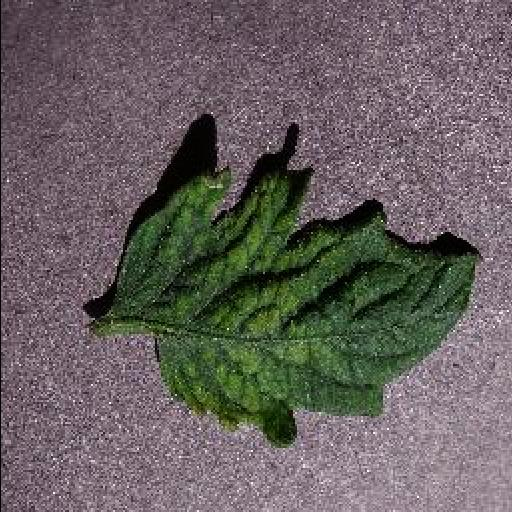disease_tomato: (106, 168, 482, 446)
